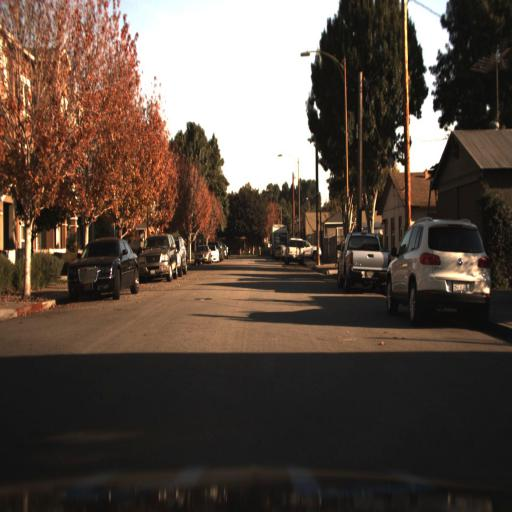car: (382, 212, 492, 328), (59, 228, 145, 310), (334, 224, 389, 295), (137, 231, 180, 290), (172, 229, 190, 277), (191, 240, 213, 268), (283, 236, 304, 264), (303, 236, 323, 264)
